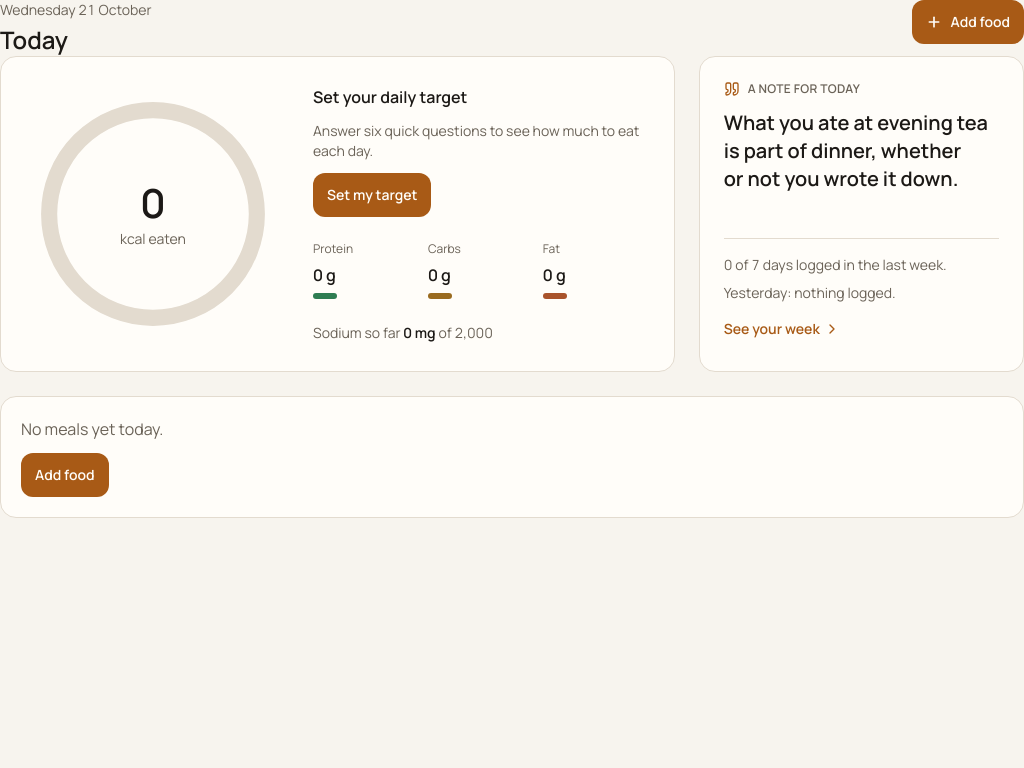
Test: an empty or failed day › shows nothing eaten and how to add the first food
The width and height of the screenshot is (1024, 768).
Expected: the text "0" is shown, [141,179,165,227]
Expected: the element "meals" shows "No meals yet today.", [21,418,163,440]
Note: The button in the empty state and the round plus both open the popup.
What coordinates should you click on to do the following:
click the button "Add food" below "No meals yet today."
I would click on:
 (65, 475)
Its box is [21,453,109,497].
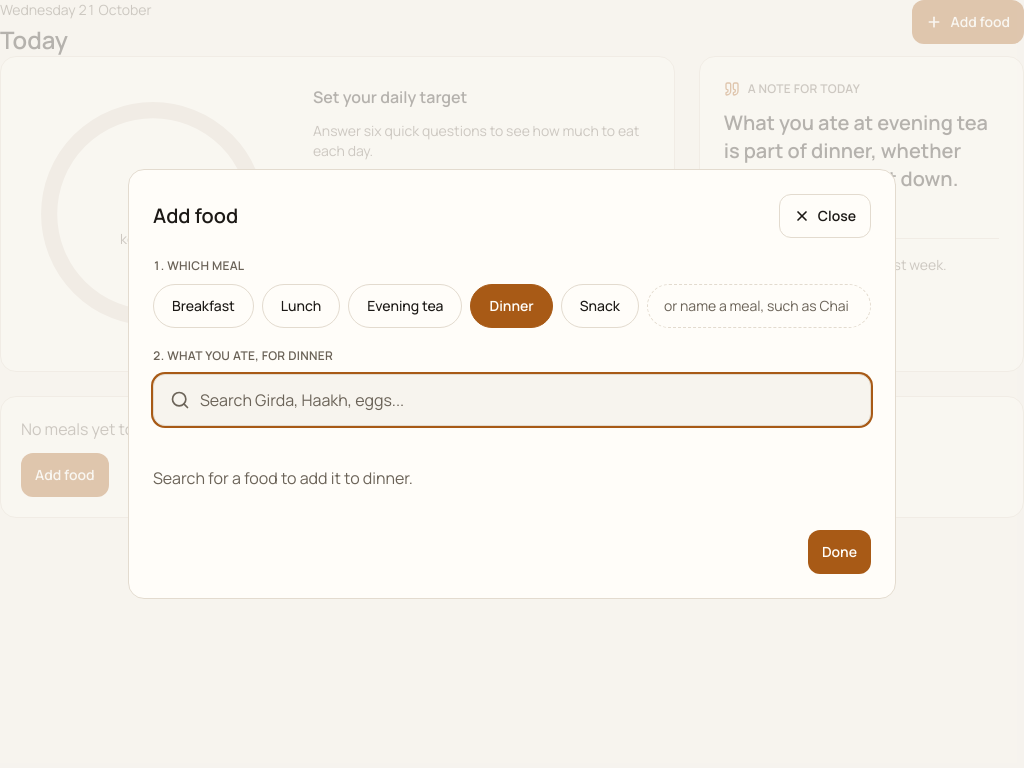
Result: the dialog "Add food" is shown at [128,169,896,599]
